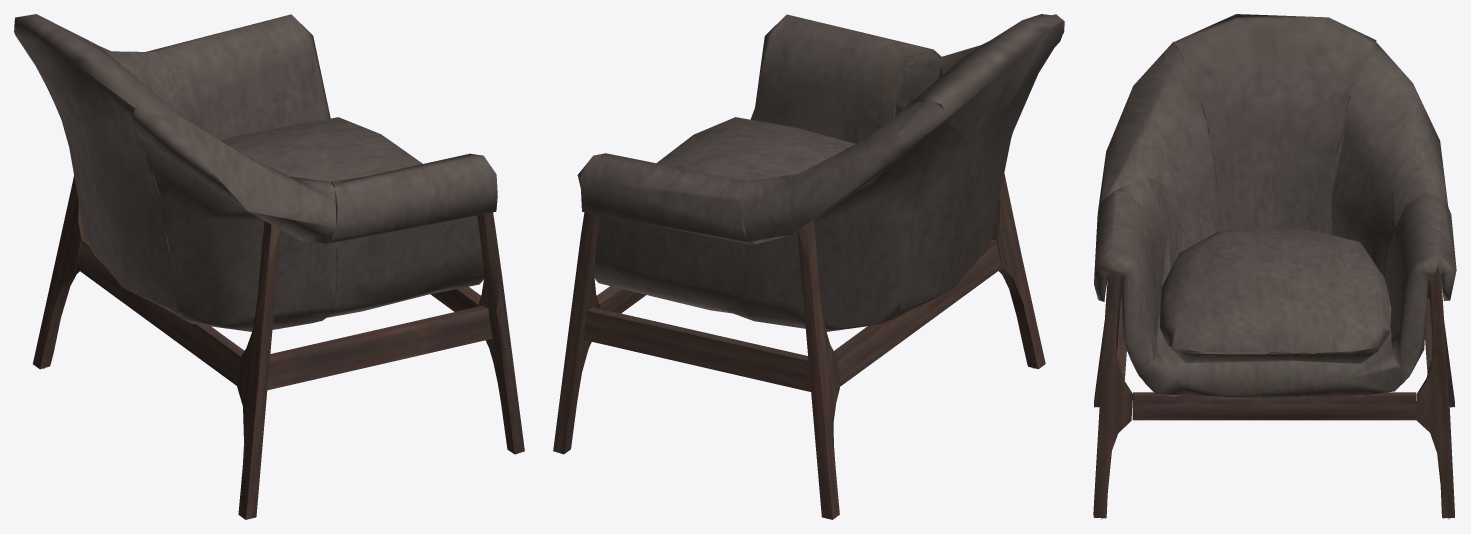
The model's file is S_Sofa0017.obj.
3 views of the same model, side by side, from view 1: azimuth 30°, elevation 25°; view 2: azimuth 150°, elevation 25°; view 3: azimuth 270°, elevation 25° (orthographic). The views are drawn at different scales.
Bounding box in the file's own units: 0.69 × 0.745 × 0.684.
1 material, 1 textured.
